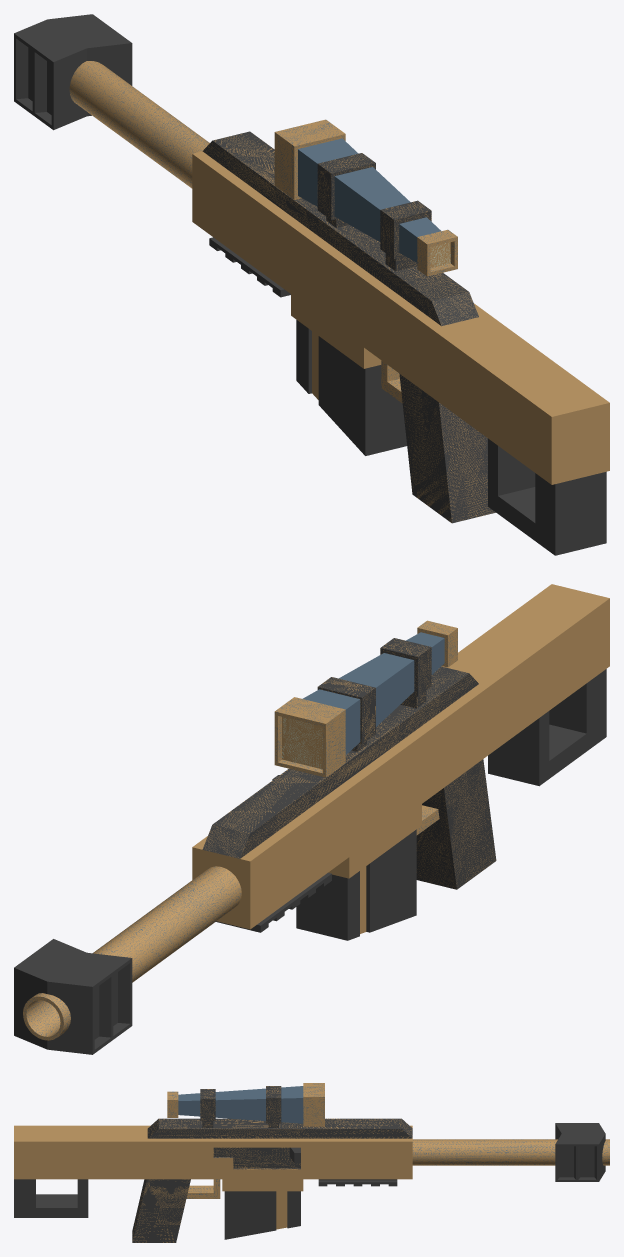
The model's file is sniperSand.obj.
The picture shows the model from 3 angles, top to bottom: view 1: azimuth 30°, elevation 25°; view 2: azimuth 150°, elevation 25°; view 3: azimuth 270°, elevation 25°; orthographic projection. The views are drawn at different scales.
Visible parts, largest first — view 1: Group; view 2: Group; view 3: Group.
Part boxes in pixels (<box>): Group: <box>14,14,609,555</box>; Group: <box>14,584,609,1054</box>; Group: <box>14,1083,609,1242</box>.
Size of the model in its own units: 0.0995 by 0.2833 by 1.04.
